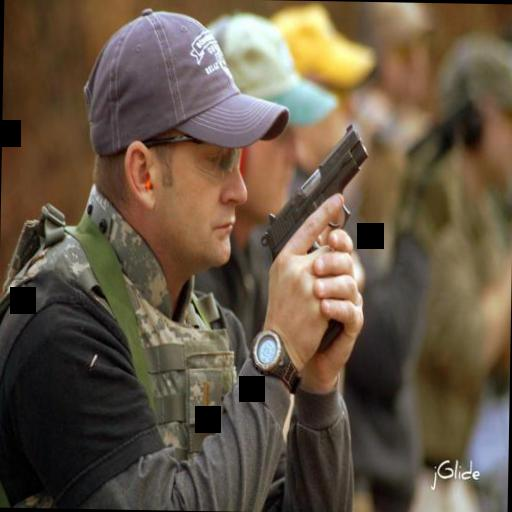Handgun: (256, 120, 368, 353)
